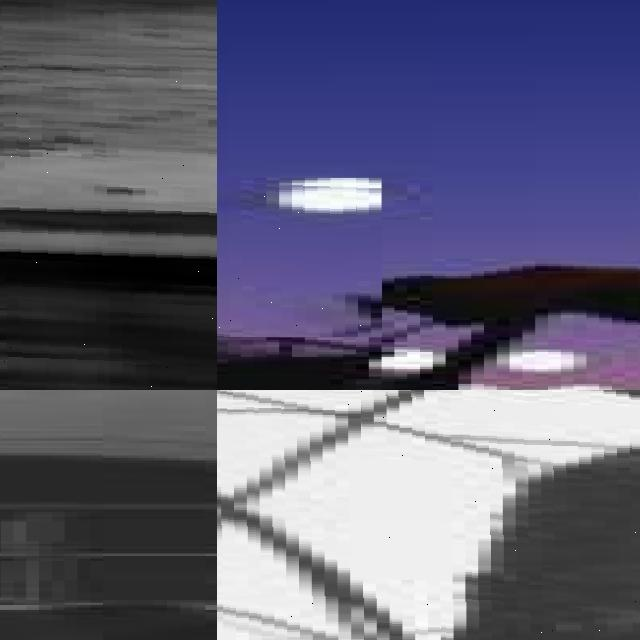street light: (217, 390, 640, 640), (0, 0, 217, 390), (217, 177, 381, 337)
